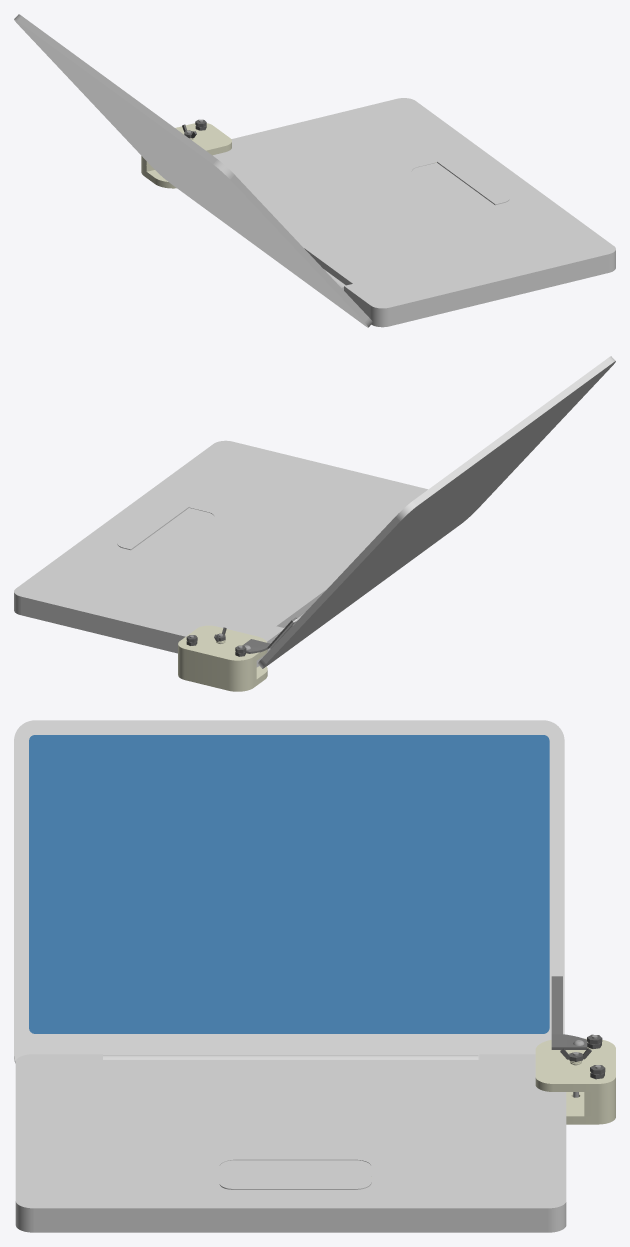
3 views of the same model, one above another, from view 1: azimuth 30°, elevation 25°; view 2: azimuth 150°, elevation 25°; view 3: azimuth 270°, elevation 25° (orthographic). The views are drawn at different scales.
Visible parts, largest first — view 1: mesh67-geometry-0, mesh66-geometry-0, mesh28-geometry-0; view 2: mesh67-geometry-0, mesh66-geometry-0, mesh28-geometry-0, mesh1-geometry-0, mesh22-geometry-0, mesh10-geometry-0, mesh16-geometry-0; view 3: mesh66-geometry-2, mesh67-geometry-0, mesh66-geometry-0, mesh28-geometry-0, mesh65-geometry-2, mesh1-geometry-0.
Boxes of the visible parts, x1,y1,x2,y2 form: mesh67-geometry-0: (213, 98, 615, 327); mesh66-geometry-0: (14, 14, 372, 327); mesh28-geometry-0: (175, 123, 231, 155); mesh67-geometry-0: (14, 440, 427, 667); mesh66-geometry-0: (257, 356, 615, 668); mesh28-geometry-0: (178, 625, 267, 666); mesh1-geometry-0: (178, 666, 267, 691); mesh22-geometry-0: (178, 650, 256, 672); mesh10-geometry-0: (178, 663, 256, 685); mesh16-geometry-0: (178, 657, 256, 679); mesh66-geometry-2: (29, 735, 549, 1033); mesh67-geometry-0: (15, 1054, 566, 1232); mesh66-geometry-0: (14, 720, 564, 1063); mesh28-geometry-0: (535, 1038, 615, 1091); mesh65-geometry-2: (551, 976, 587, 1049); mesh1-geometry-0: (566, 1092, 615, 1124).
Bounding box in the file's own units: 0.6655 × 0.3338 × 0.6677.
